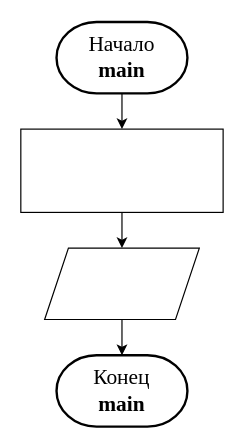
Some shapes in this 244 by 447 pixel diagram are drawn without their labels. Each missing label, with the centre of its shape:
res = сумма hcl() для каждой полуокружности: the point at 121,170
Вывод res: the point at 121,283
